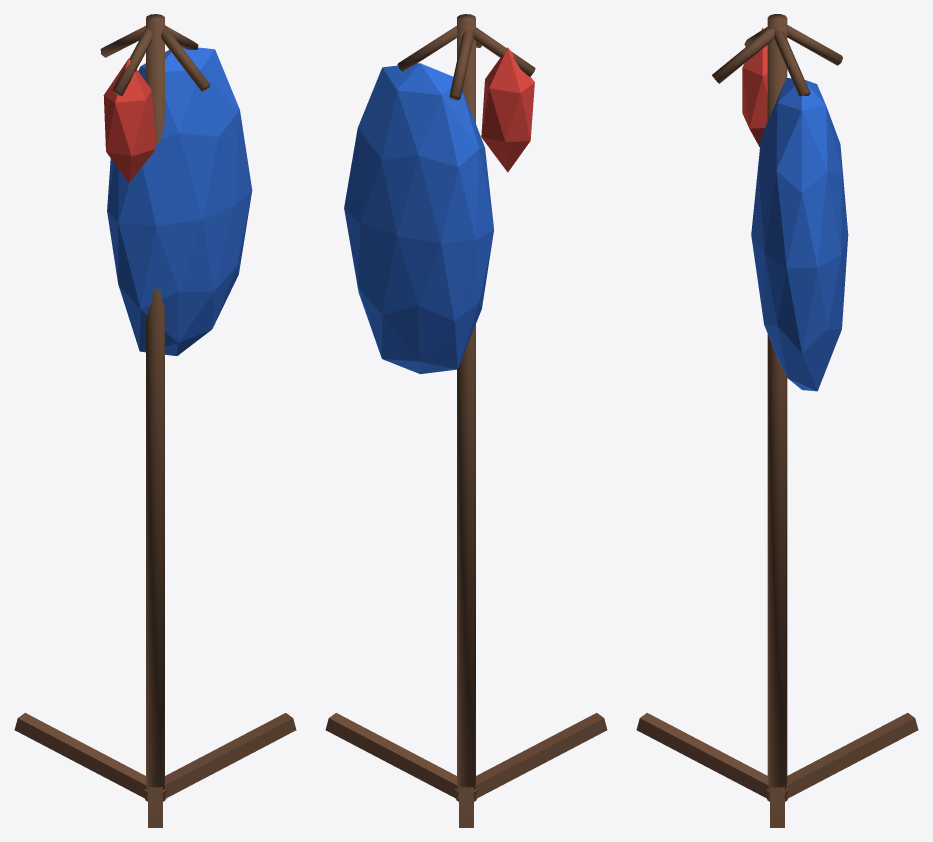
File: CoatRack.fbx
3 renders of one model, left to right at view 1: azimuth 30°, elevation 25°; view 2: azimuth 150°, elevation 25°; view 3: azimuth 270°, elevation 25°, orthographic.
Parts seen in each view (by area): view 1: CoatRackBody; view 2: CoatRackBody; view 3: CoatRackBody.
Boxes of the visible parts, <box> form: CoatRackBody: <box>14,14,296,827</box>; CoatRackBody: <box>325,14,607,827</box>; CoatRackBody: <box>636,14,918,827</box>.
Bounding box in the file's own units: 0.4974 × 1.76 × 0.5743.
